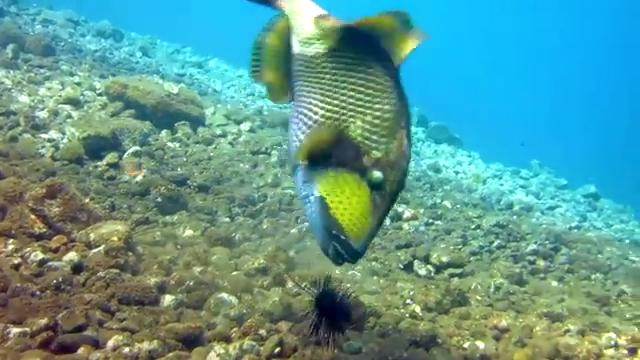urchin: (288, 270, 368, 354)
